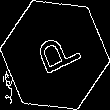P_SW: (27, 28, 83, 82)
